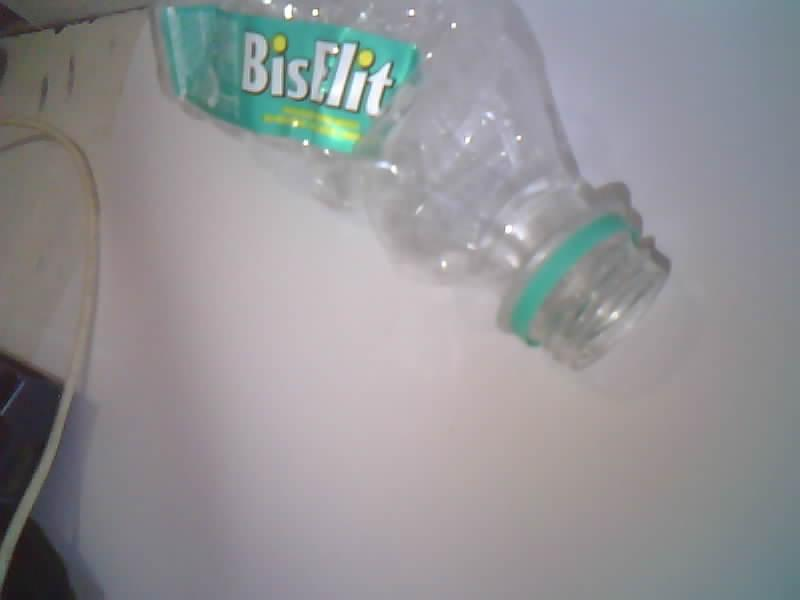non-biodegradable: (150, 0, 667, 368)
